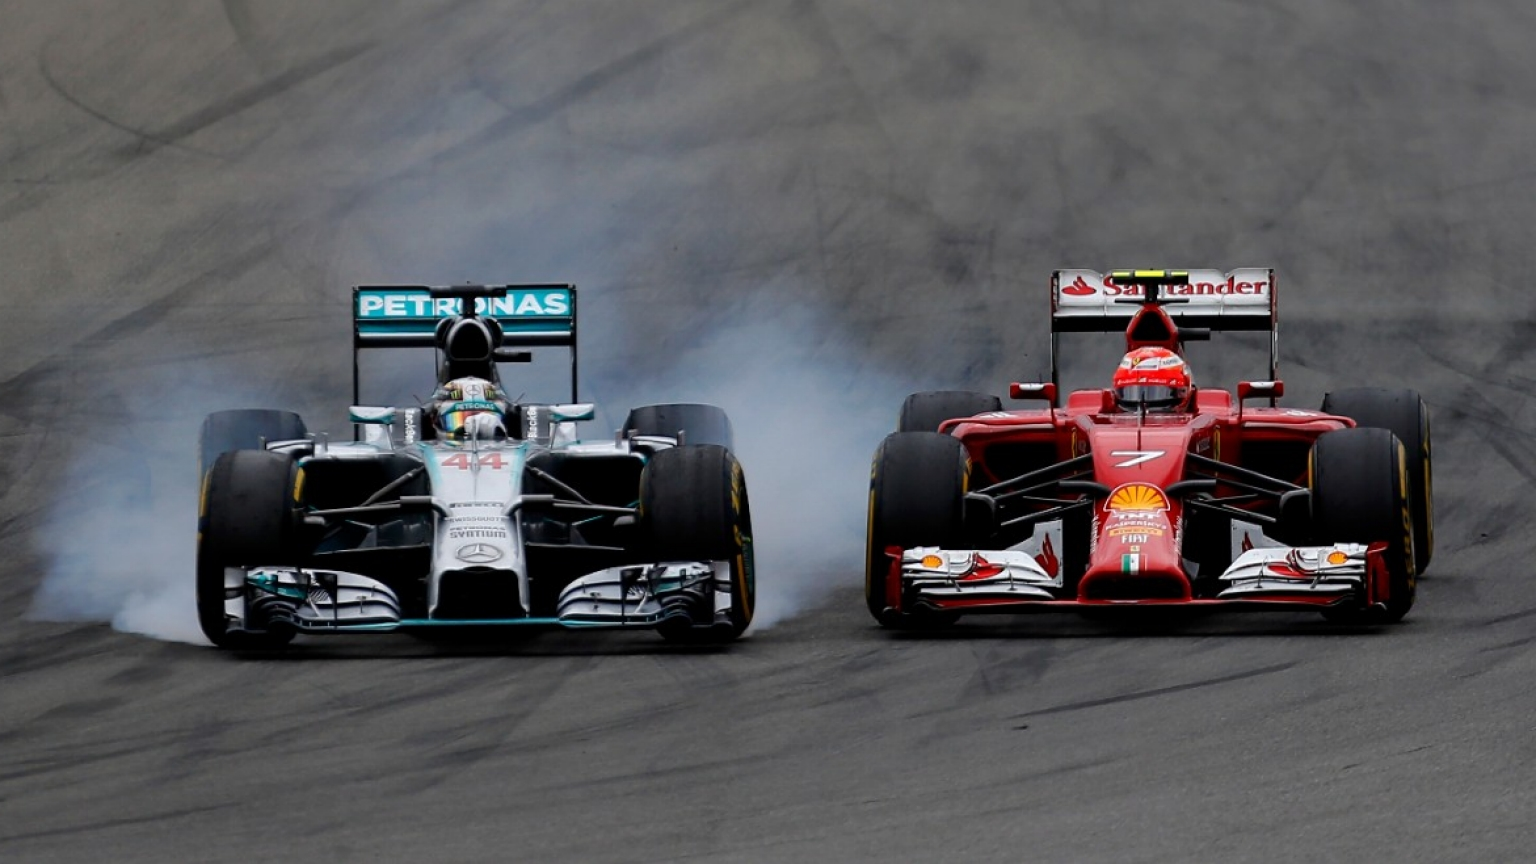race car: (862, 264, 1440, 637), (191, 284, 758, 652)
